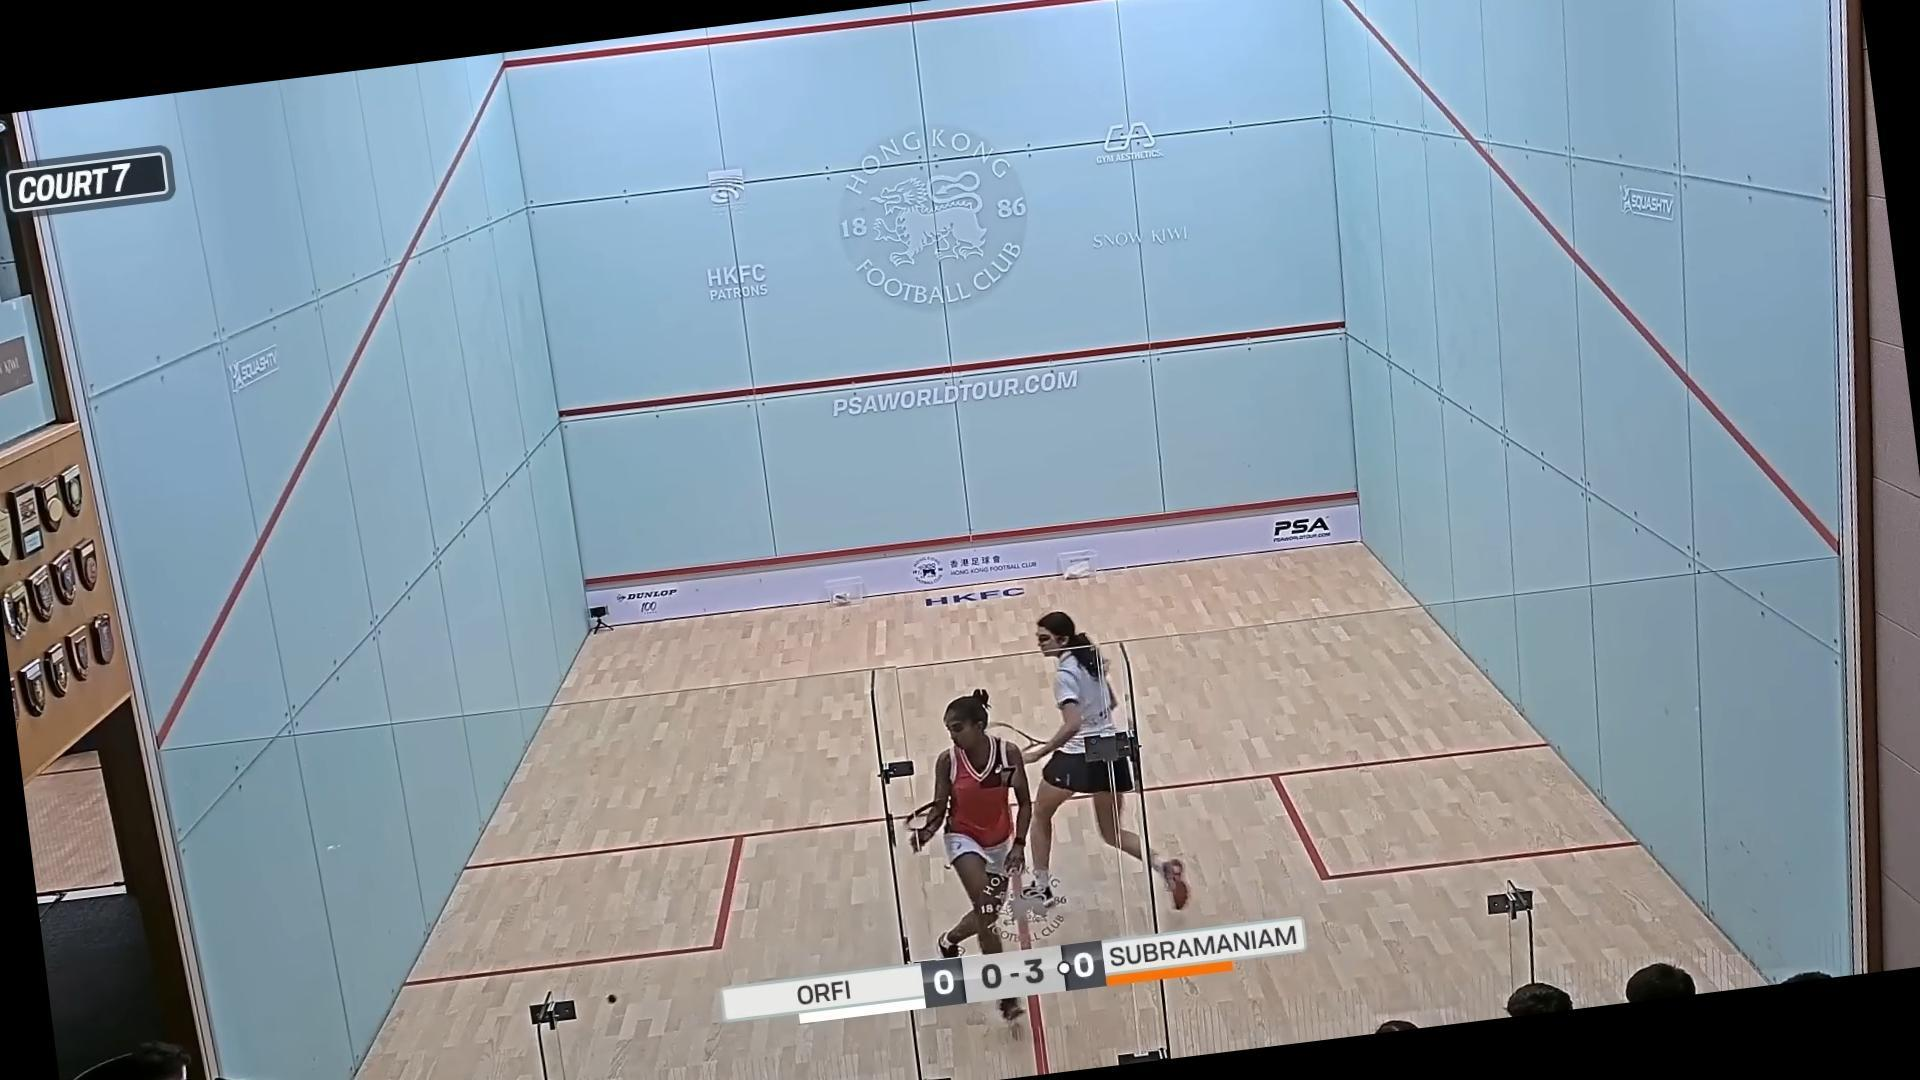Squash-Ball: (596, 982, 625, 1015)
